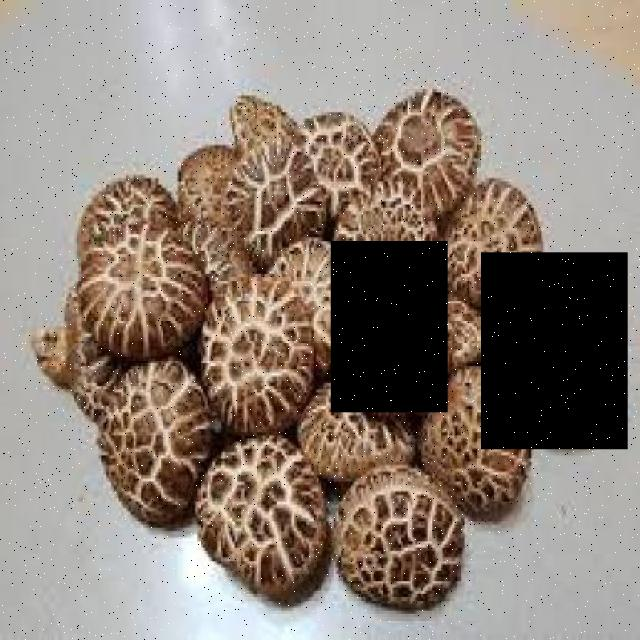Mushroom: (480, 253, 628, 450), (332, 241, 448, 413)
